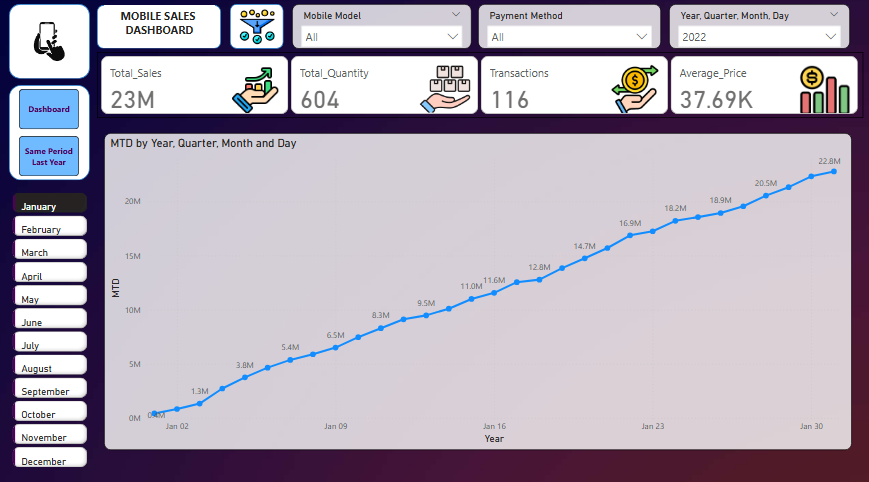

Layout of this report page (visuals, bound fields, positions):
{"tool":"powerbi","page":{"name":"MTD Report","canvas":[1280,720],"ordinal":1},"visuals":[{"type":"shape","box":[13.2,11.8,119,110.2],"z":0},{"type":"image","box":[12.9,11.4,118.6,110],"z":1000},{"type":"shape","box":[12.9,131.4,118.6,140],"z":2000},{"type":"cardVisual","fields":{"Data":["sales_data.Total_Sales","sales_data.Total_Quantity","sales_data.Transactions","sales_data.Average_Price"]},"box":[142.9,82.9,1125.7,97.1],"z":3000},{"type":"slicer","fields":{"Values":["sales_data.Mobile Model"]},"box":[428.6,11.4,264.3,65.7],"z":4000},{"type":"slicer","fields":{"Values":["sales_data.Payment Method"]},"box":[702.9,11.4,268.6,65.7],"z":5000},{"type":"slicer","fields":{"Values":["Custom_Calendar.Date.Variation.Date Hierarchy.Year","Custom_Calendar.Date.Variation.Date Hierarchy.Quarter","Custom_Calendar.Date.Variation.Date Hierarchy.Month","Custom_Calendar.Date.Variation.Date Hierarchy.Day"]},"box":[982.9,11.4,265.7,65.7],"z":6000},{"type":"shape","box":[338.6,11.4,78.6,65.7],"z":7000},{"type":"image","box":[335.7,12.9,85.7,64.3],"z":8000},{"type":"shape","box":[142.9,12.9,182.9,64.3],"z":9000},{"type":"textbox","box":[152.9,12.9,162.9,54.3],"z":10000},{"type":"lineChart","fields":{"Y":["sales_data.MTD"],"Category":["Custom_Calendar.Date.Variation.Date Hierarchy.Year","Custom_Calendar.Date.Variation.Date Hierarchy.Quarter","Custom_Calendar.Date.Variation.Date Hierarchy.Month","Custom_Calendar.Date.Variation.Date Hierarchy.Day"]},"box":[152.9,201.4,1098.6,465.7],"z":11000},{"type":"advancedSlicerVisual","fields":{"Values":["Custom_Calendar.Date.Variation.Date Hierarchy.Month"]},"box":[12.9,282.9,120,418.6],"z":12000},{"type":"pageNavigator","box":[28.6,137.1,88.6,128.6],"z":13000}]}

Visuals, with their boxes in screenshot pixels (x1, y1, x2, y2), scaled from the page's 1280x720 canvas onto the 869x482 screenshot:
shape: 9, 8, 90, 82
image: 9, 8, 89, 81
shape: 9, 88, 89, 182
cardVisual - sales_data.Total_Sales x sales_data.Total_Quantity: 97, 55, 861, 120
slicer - sales_data.Mobile Model: 291, 8, 470, 52
slicer - sales_data.Payment Method: 477, 8, 660, 52
slicer - Custom_Calendar.Date.Variation.Date Hierarchy.Year x Custom_Calendar.Date.Variation.Date Hierarchy.Quarter: 667, 8, 848, 52
shape: 230, 8, 283, 52
image: 228, 9, 286, 52
shape: 97, 9, 221, 52
textbox: 104, 9, 214, 45
lineChart - sales_data.MTD x Custom_Calendar.Date.Variation.Date Hierarchy.Year: 104, 135, 850, 447
advancedSlicerVisual - Custom_Calendar.Date.Variation.Date Hierarchy.Month: 9, 189, 90, 470
pageNavigator: 19, 92, 80, 178
